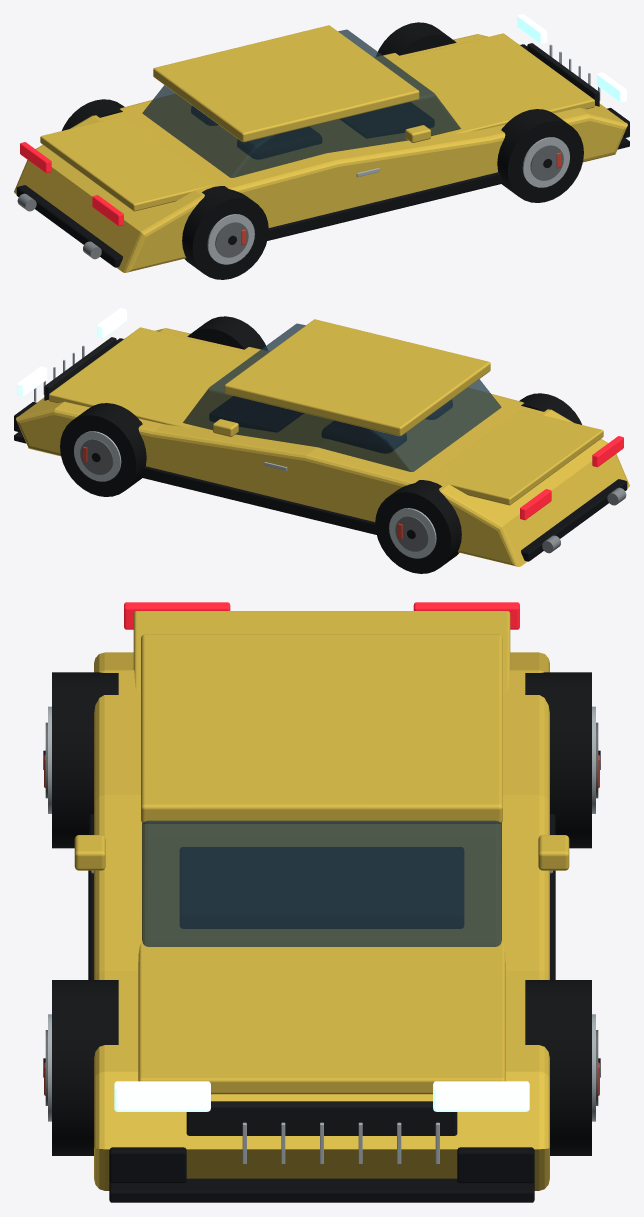
Rendered from lambo_aventador.glb.
3 renders of one model, top to bottom at view 1: azimuth 30°, elevation 25°; view 2: azimuth 150°, elevation 25°; view 3: azimuth 270°, elevation 25°, orthographic. The views are drawn at different scales.
Parts seen in each view (by area): view 1: sculpted_body, roof, hood_center, glasshouse, rear_deck, front_right_wheel_tire, rear_right_wheel_tire, side_skirt_1, dashboard, front_left_wheel_tire, rear_diffuser, seat_1 (+10 smaller); view 2: sculpted_body, roof, hood_center, glasshouse, rear_deck, front_left_wheel_tire, rear_left_wheel_tire, side_skirt_-1, dashboard, front_right_wheel_tire, rear_diffuser, seat_-1 (+10 smaller); view 3: sculpted_body, roof, hood_center, glasshouse, dashboard, rear_deck, front_splitter, front_left_wheel_tire, front_right_wheel_tire, front_grille, rear_left_wheel_tire, rear_right_wheel_tire (+8 smaller).
Boxes of the visible parts, <box> form: sculpted_body: <box>14,34,627,272</box>; roof: <box>153,25,419,142</box>; hood_center: <box>382,33,594,133</box>; glasshouse: <box>142,29,460,177</box>; rear_deck: <box>40,116,215,211</box>; front_right_wheel_tire: <box>497,109,583,202</box>; rear_right_wheel_tire: <box>182,186,268,279</box>; side_skirt_1: <box>267,172,503,240</box>; dashboard: <box>340,102,433,137</box>; front_left_wheel_tire: <box>376,22,456,55</box>; rear_diffuser: <box>16,185,122,267</box>; seat_1: <box>237,127,321,158</box>; sculpted_body: <box>16,328,629,566</box>; roof: <box>224,319,490,436</box>; hood_center: <box>49,327,261,427</box>; glasshouse: <box>183,323,501,471</box>; rear_deck: <box>428,410,603,505</box>; front_left_wheel_tire: <box>60,403,146,496</box>; rear_left_wheel_tire: <box>375,480,461,573</box>; side_skirt_-1: <box>140,466,376,534</box>; dashboard: <box>210,396,303,431</box>; front_right_wheel_tire: <box>187,316,267,349</box>; rear_diffuser: <box>521,479,627,561</box>; seat_-1: <box>322,421,406,452</box>; sculpted_body: <box>94,652,549,1190</box>; roof: <box>141,634,502,823</box>; hood_center: <box>138,941,505,1094</box>; glasshouse: <box>142,820,501,946</box>; dashboard: <box>180,847,463,928</box>; rear_deck: <box>133,611,510,690</box>; front_splitter: <box>109,1178,534,1202</box>; front_left_wheel_tire: <box>525,980,591,1155</box>; front_right_wheel_tire: <box>52,980,118,1155</box>; front_grille: <box>186,1101,457,1135</box>; rear_left_wheel_tire: <box>525,672,591,848</box>; rear_right_wheel_tire: <box>52,672,118,848</box>.
Bounding box in the file's own units: 5.11 × 1.12 × 2.34.
